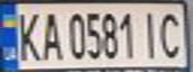0: (63, 8, 84, 60)
1: (118, 8, 139, 60)
5: (81, 8, 103, 60)
8: (100, 8, 121, 60)
A: (36, 8, 63, 62)
C: (154, 7, 187, 60)
I: (136, 7, 163, 60)
K: (9, 8, 42, 63)
